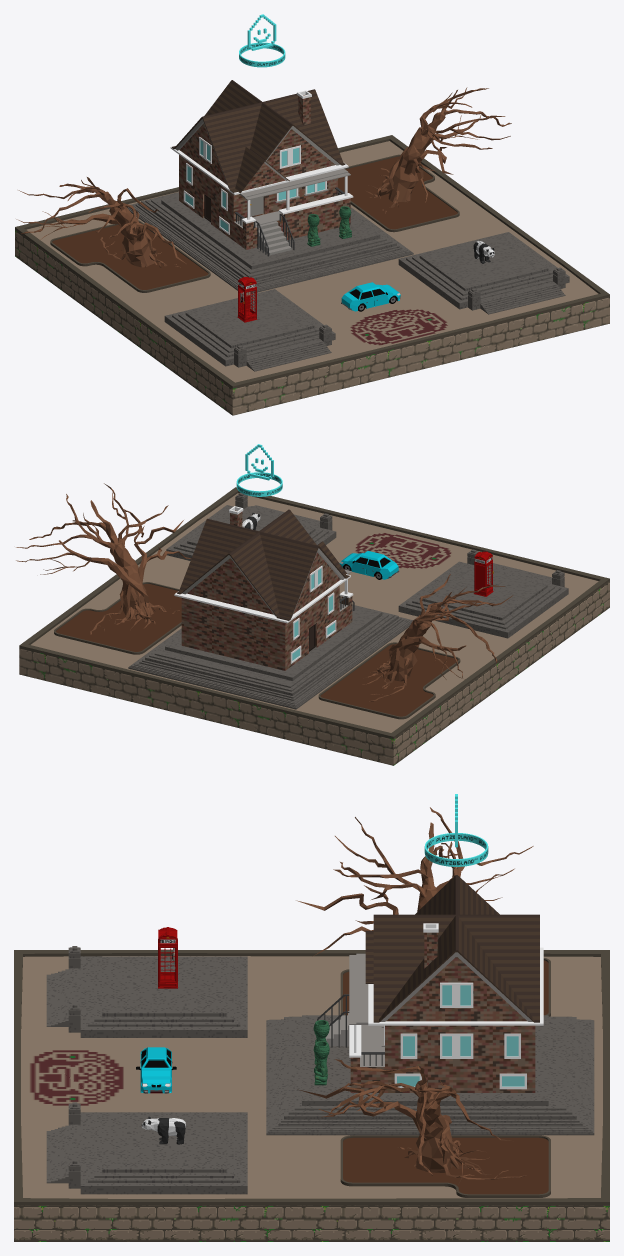
The picture shows the model from 3 angles, top to bottom: view 1: azimuth 30°, elevation 25°; view 2: azimuth 150°, elevation 25°; view 3: azimuth 270°, elevation 25°; orthographic projection. The views are drawn at different scales.
Visible parts, largest first — view 1: Cube.011, Cube.117, VEHICLES_CAR, TYPE_PREMIUM, OBJRANDOM_PHONEBOOTH; view 2: Cube.011, Cube.117, VEHICLES_CAR, TYPE_PREMIUM, OBJRANDOM_PHONEBOOTH; view 3: Cube.011, Cube.117, VEHICLES_CAR, TYPE_PREMIUM, OBJRANDOM_PHONEBOOTH, ANIMAL_PANDA.
Part boxes in pixels (x1,y1,x2,y2): Cube.011: (15, 87, 609, 415); Cube.117: (170, 80, 353, 256); VEHICLES_CAR: (341, 282, 400, 311); TYPE_PREMIUM: (239, 14, 285, 67); OBJRANDOM_PHONEBOOTH: (237, 277, 257, 322); Cube.011: (16, 483, 609, 765); Cube.117: (174, 506, 354, 670); VEHICLES_CAR: (339, 551, 399, 579); TYPE_PREMIUM: (236, 444, 282, 496); OBJRANDOM_PHONEBOOTH: (473, 551, 493, 596); Cube.011: (14, 807, 609, 1241); Cube.117: (317, 875, 543, 1092); VEHICLES_CAR: (136, 1047, 176, 1093); TYPE_PREMIUM: (424, 794, 488, 866); OBJRANDOM_PHONEBOOTH: (158, 927, 177, 988); ANIMAL_PANDA: (141, 1116, 185, 1144).
Size of the model in its own units: 5099 by 2444 by 4000.
44 materials, 7 textured.
